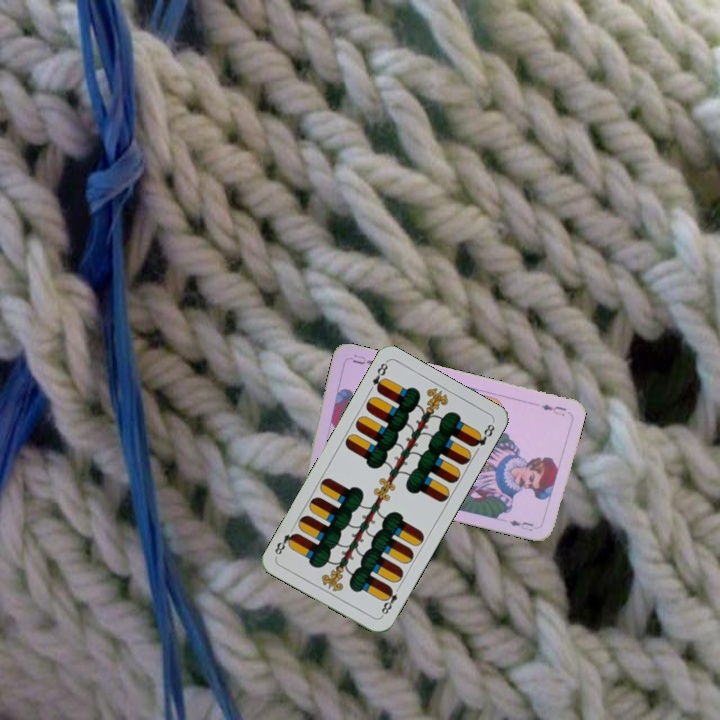E8: (377, 582, 403, 619), (368, 358, 391, 395)
EU: (537, 400, 569, 419)
